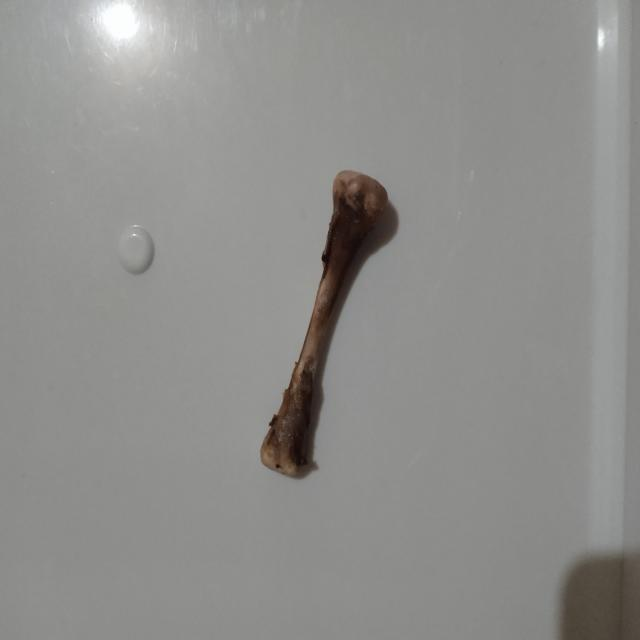bone: (255, 160, 396, 482)
